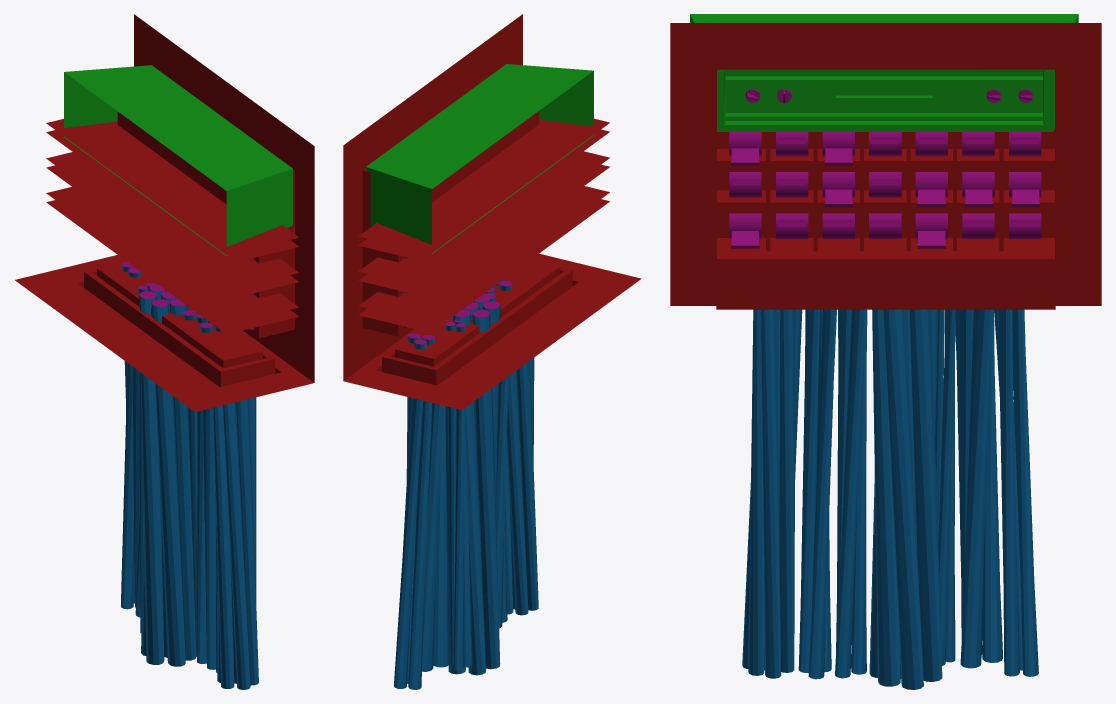
The model's file is SM_Cables.fbx.
3 views of the same model, side by side, from view 1: azimuth 30°, elevation 25°; view 2: azimuth 150°, elevation 25°; view 3: azimuth 270°, elevation 25° (orthographic). The views are drawn at different scales.
Parts seen in each view (by area): view 1: polySurface14; view 2: polySurface14; view 3: polySurface14.
Boxes of the visible parts, bbox=[...] form: polySurface14: bbox=[15, 14, 314, 689]; polySurface14: bbox=[343, 14, 641, 689]; polySurface14: bbox=[670, 14, 1101, 689].
Bounding box in the file's own units: 3.61 × 16.43 × 9.45.
